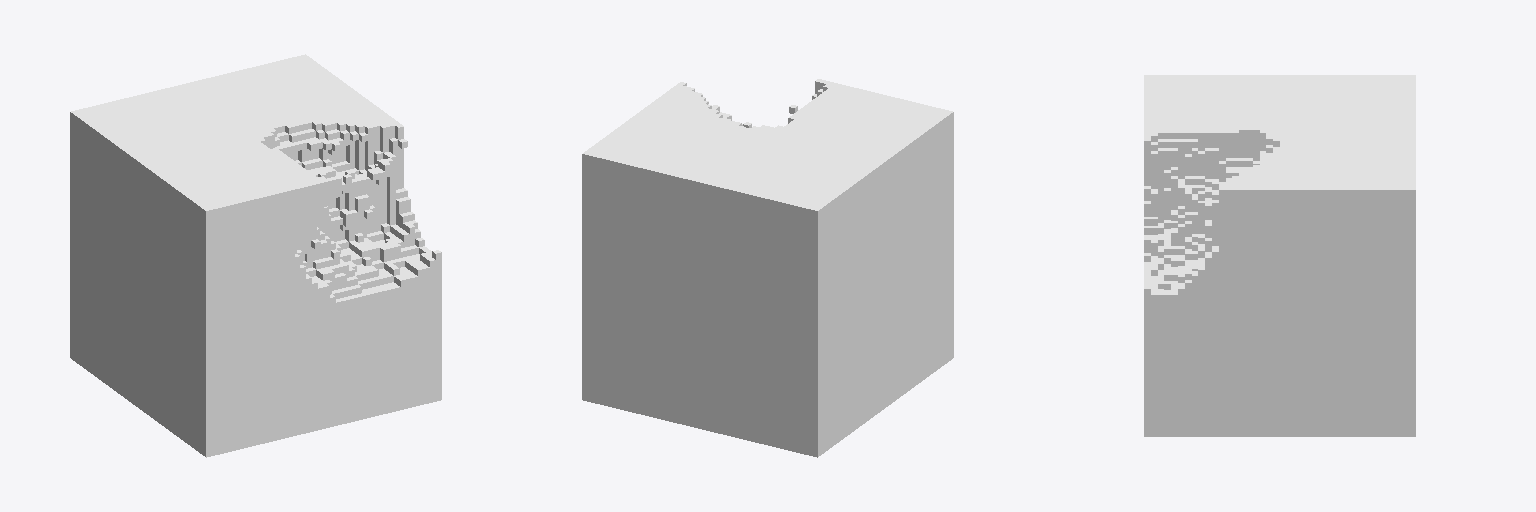
The model's file is CuboRaro.obj.
The picture shows the model from 3 angles: view 1: azimuth 30°, elevation 25°; view 2: azimuth 150°, elevation 25°; view 3: azimuth 270°, elevation 25°; orthographic projection.
Parts seen in each view (by area): view 1: object 1; view 2: object 1; view 3: object 1.
Boxes of the visible parts, x1,y1,x2,y2 form: object 1: [70, 54, 441, 457]; object 1: [582, 79, 953, 457]; object 1: [1144, 75, 1415, 436].
Bounding box in the file's own units: 4 × 4 × 4.